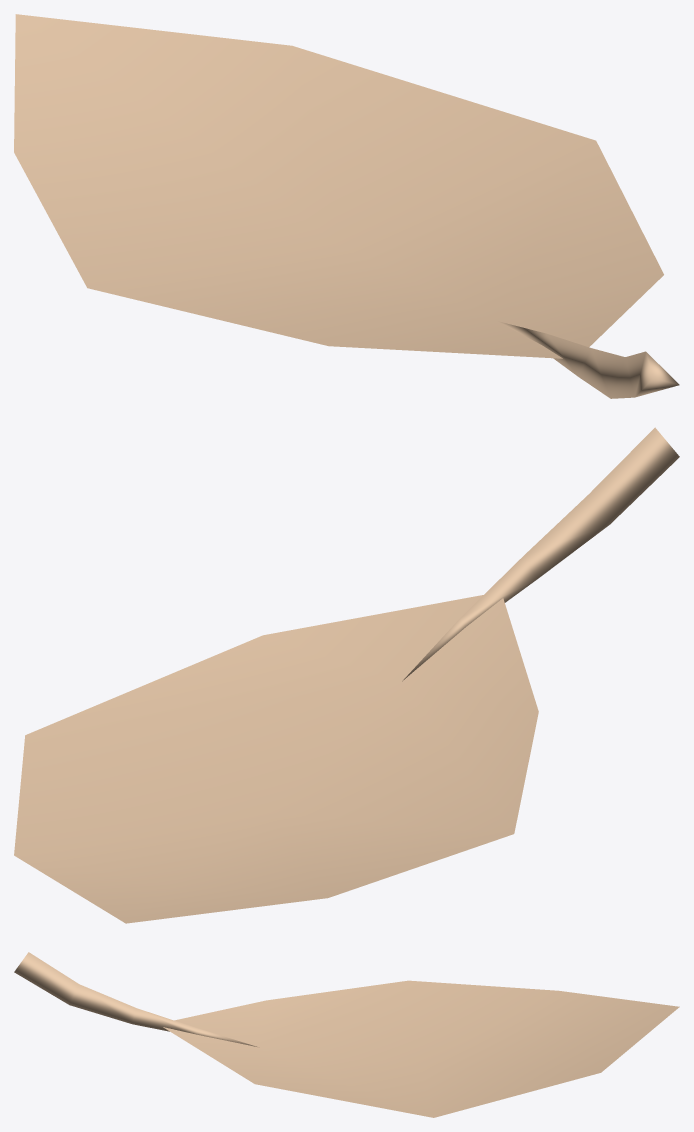
File: a_leaf1.fbx
The picture shows the model from 3 angles, top to bottom: view 1: azimuth 30°, elevation 25°; view 2: azimuth 150°, elevation 25°; view 3: azimuth 270°, elevation 25°; orthographic projection. The views are drawn at different scales.
Visible parts, largest first — view 1: polySurface1; view 2: polySurface1; view 3: polySurface1.
Boxes of the visible parts, x1,y1,x2,y2 form: polySurface1: [14, 14, 679, 398]; polySurface1: [14, 427, 679, 923]; polySurface1: [14, 952, 679, 1117].
Bounding box in the file's own units: 12.89 × 4.24 × 26.41.
